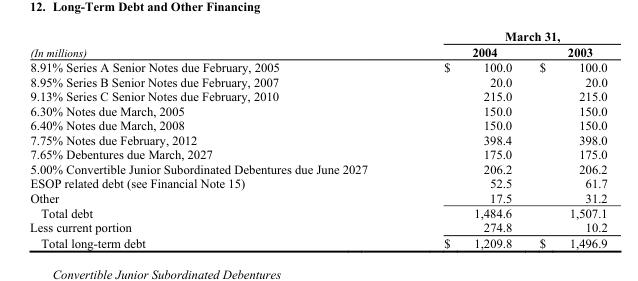table: (28, 28, 606, 249)
table column: (28, 28, 405, 249), (405, 28, 525, 249), (525, 28, 606, 249)
table column header: (28, 28, 606, 59)
table row: (28, 43, 606, 59), (28, 28, 606, 43), (28, 73, 606, 88), (28, 102, 606, 117), (28, 117, 606, 132), (28, 146, 606, 161), (28, 175, 606, 190), (28, 204, 606, 219), (28, 219, 606, 234), (28, 234, 606, 249), (28, 59, 606, 73), (28, 88, 606, 102), (28, 132, 606, 146), (28, 161, 606, 175), (28, 190, 606, 204)
table spanning cell: (28, 28, 405, 59), (405, 28, 606, 43)
